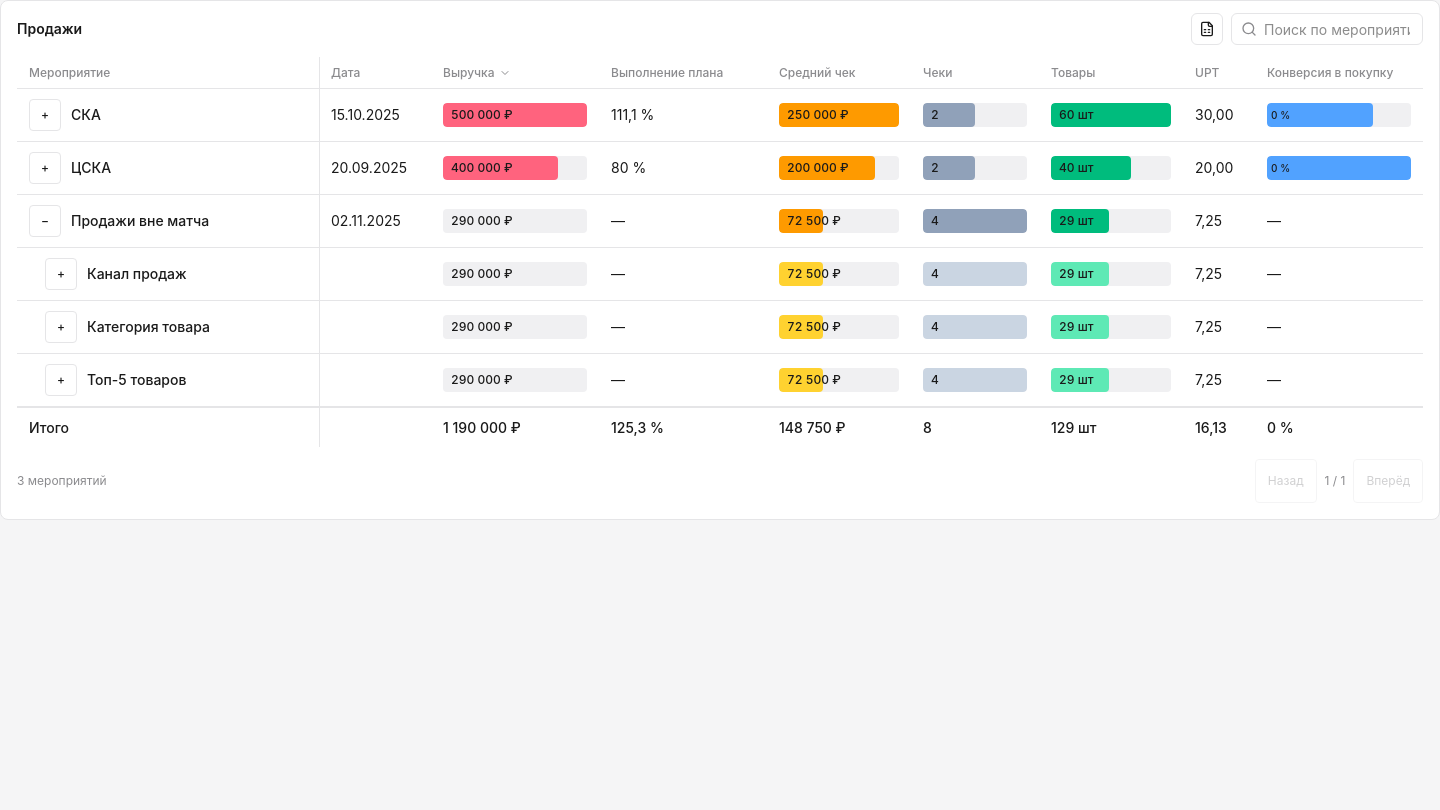
MerchMatchSalesTable drill-down › expands the off-match row to the three retail/online channels
This screenshot has width=1440, height=810.
Click the button "+" next to "Канал продаж".
click(61, 274)  # box x1=45 y1=258 x2=77 y2=290
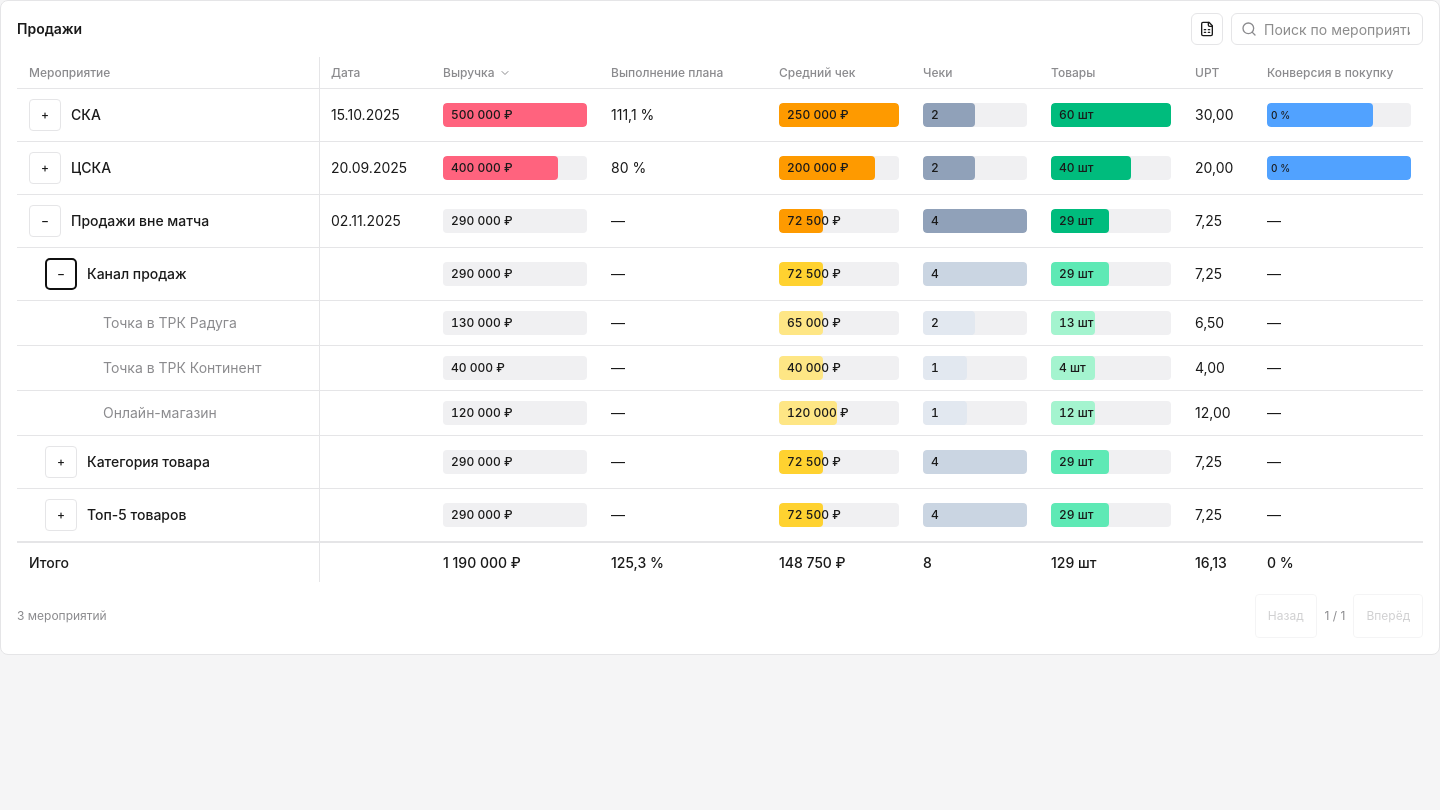
expect the text "Точка в ТРК Радуга" is shown: met, box x1=103 y1=313 x2=237 y2=333
expect the text "Точка в ТРК Континент" is shown: met, box x1=103 y1=358 x2=262 y2=378
expect the text "Онлайн-магазин" is shown: met, box x1=103 y1=403 x2=217 y2=423
